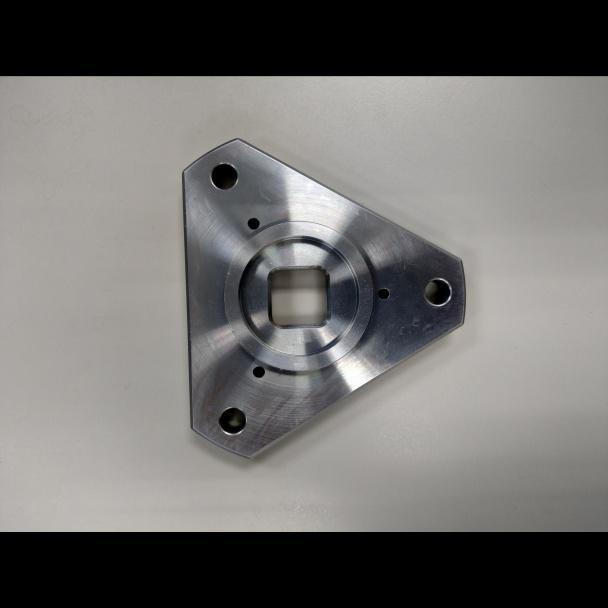hole: (420, 275, 453, 310), (215, 403, 248, 437), (207, 159, 240, 193), (249, 361, 268, 381), (244, 213, 261, 231), (375, 284, 391, 303)
